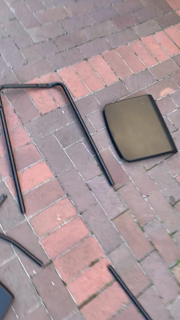Seat: (101, 93, 180, 165)
U pipe: (1, 80, 117, 217)
